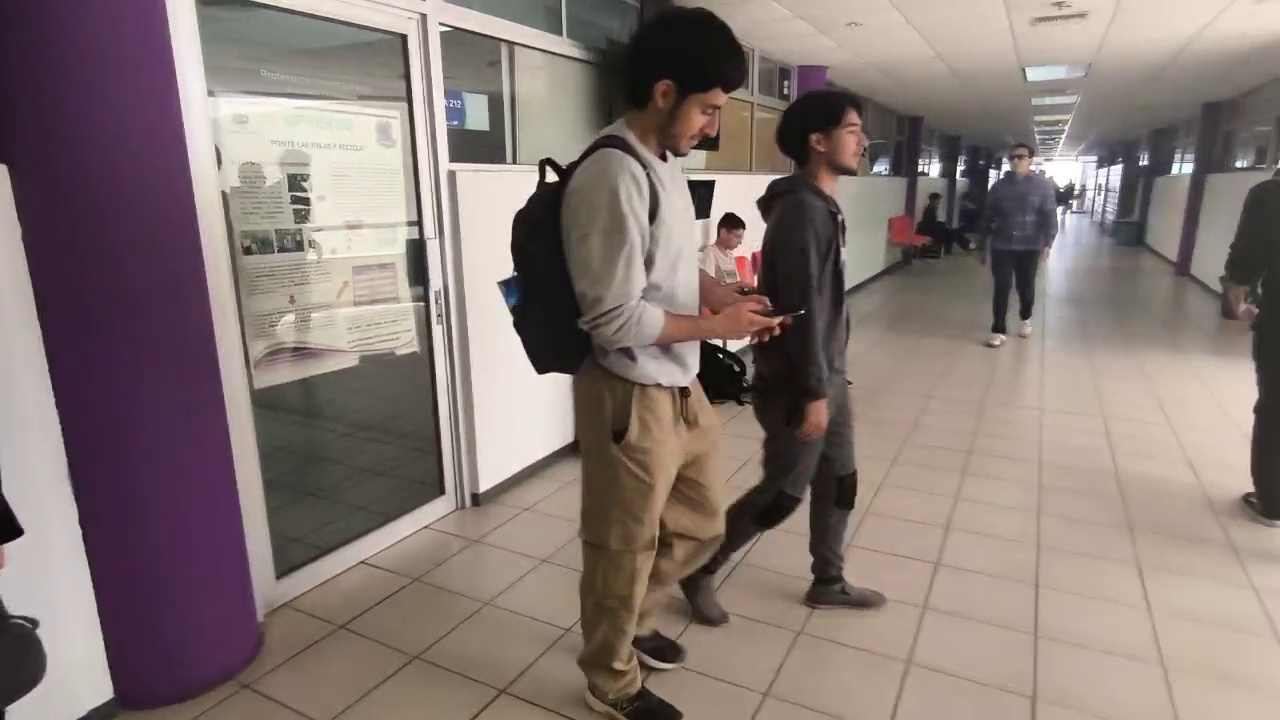mixto2: (757, 297, 812, 324)
